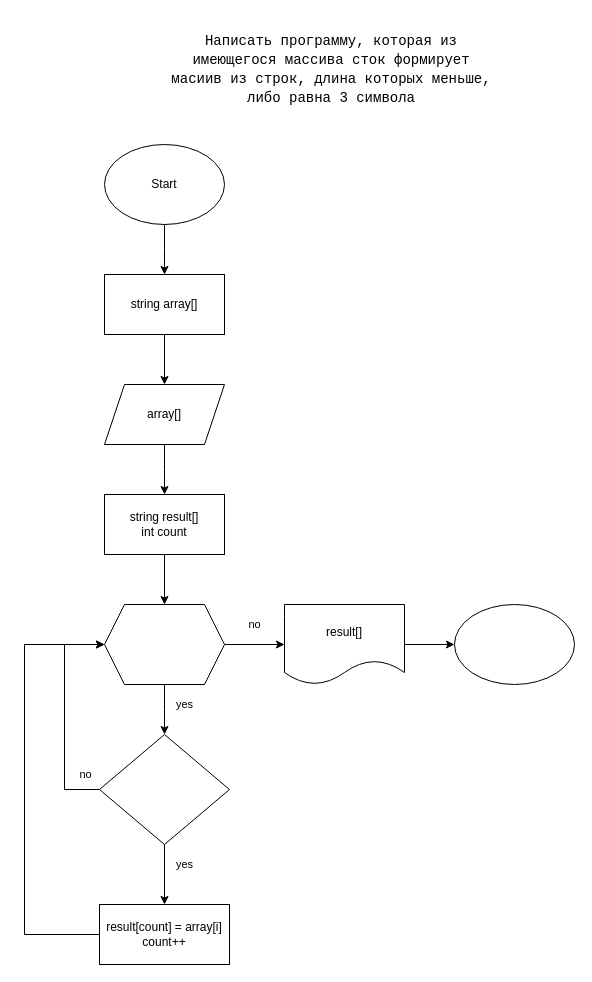
Some shapes in this 592 by 982 pixel diagram are drawn without their labels. Here are the shapes that lost their labels. From the top down, the centre of each, then its label:
At point (164, 644): "int i = 0; i < array.Length; i++".
At point (514, 644): "End".
At point (164, 789): "array[i].Length <= 3".
